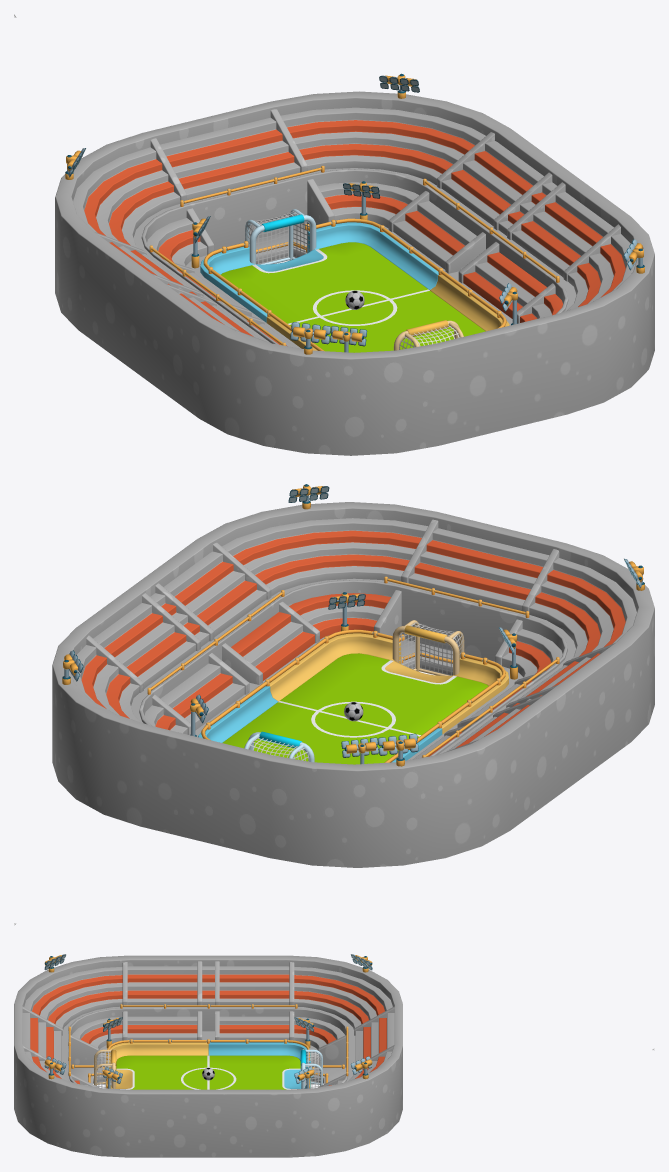
The model's file is pitch.glb.
3 renders of one model, top to bottom at view 1: azimuth 30°, elevation 25°; view 2: azimuth 150°, elevation 25°; view 3: azimuth 270°, elevation 25°, orthographic. The views are drawn at different scales.
Parts seen in each view (by area): view 1: Level10VisualsExtra, Level10Visuals, Level10VisualsExtra2, Level10VisualsExtra3, Level10VisualsNets; view 2: Level10VisualsExtra, Level10Visuals, Level10VisualsExtra2, Level10VisualsExtra3, Level10VisualsNets; view 3: Level10VisualsExtra, Level10Visuals, Level10VisualsExtra2, Level10VisualsExtra3, Level10VisualsNets.
Part boxes in pixels (<box>): Level10VisualsExtra: <box>55,91,654,455</box>; Level10Visuals: <box>200,209,509,352</box>; Level10VisualsExtra2: <box>65,73,644,354</box>; Level10VisualsExtra3: <box>203,218,506,351</box>; Level10VisualsNets: <box>245,211,459,349</box>; Level10VisualsExtra: <box>52,502,654,867</box>; Level10Visuals: <box>198,620,508,764</box>; Level10VisualsExtra2: <box>62,484,644,766</box>; Level10VisualsExtra3: <box>201,629,505,762</box>; Level10VisualsNets: <box>248,622,464,761</box>; Level10VisualsExtra: <box>14,955,402,1157</box>; Level10Visuals: <box>94,1042,322,1089</box>; Level10VisualsExtra2: <box>44,954,372,1088</box>; Level10VisualsExtra3: <box>71,1039,344,1088</box>; Level10VisualsNets: <box>95,1051,321,1087</box>.
Size of what is drawn, in the model's own units: 0.4772 by 0.1388 by 0.932.
Materials: 17 (5 with a texture image).
